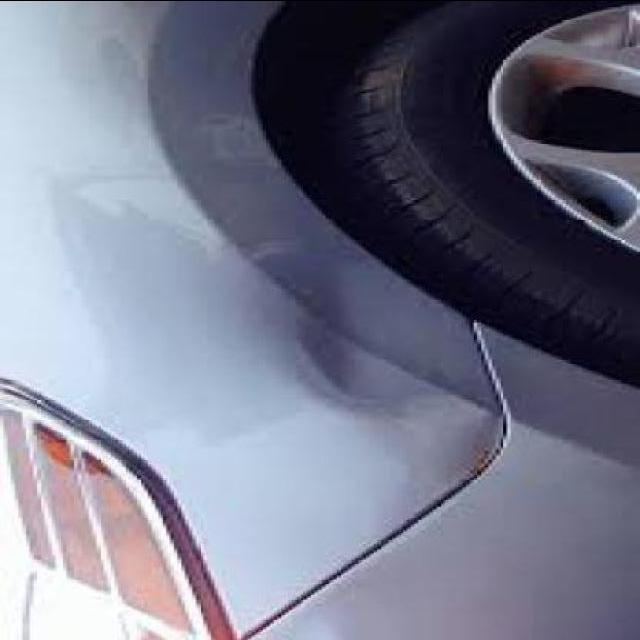fender-dent: (266, 236, 474, 441)
